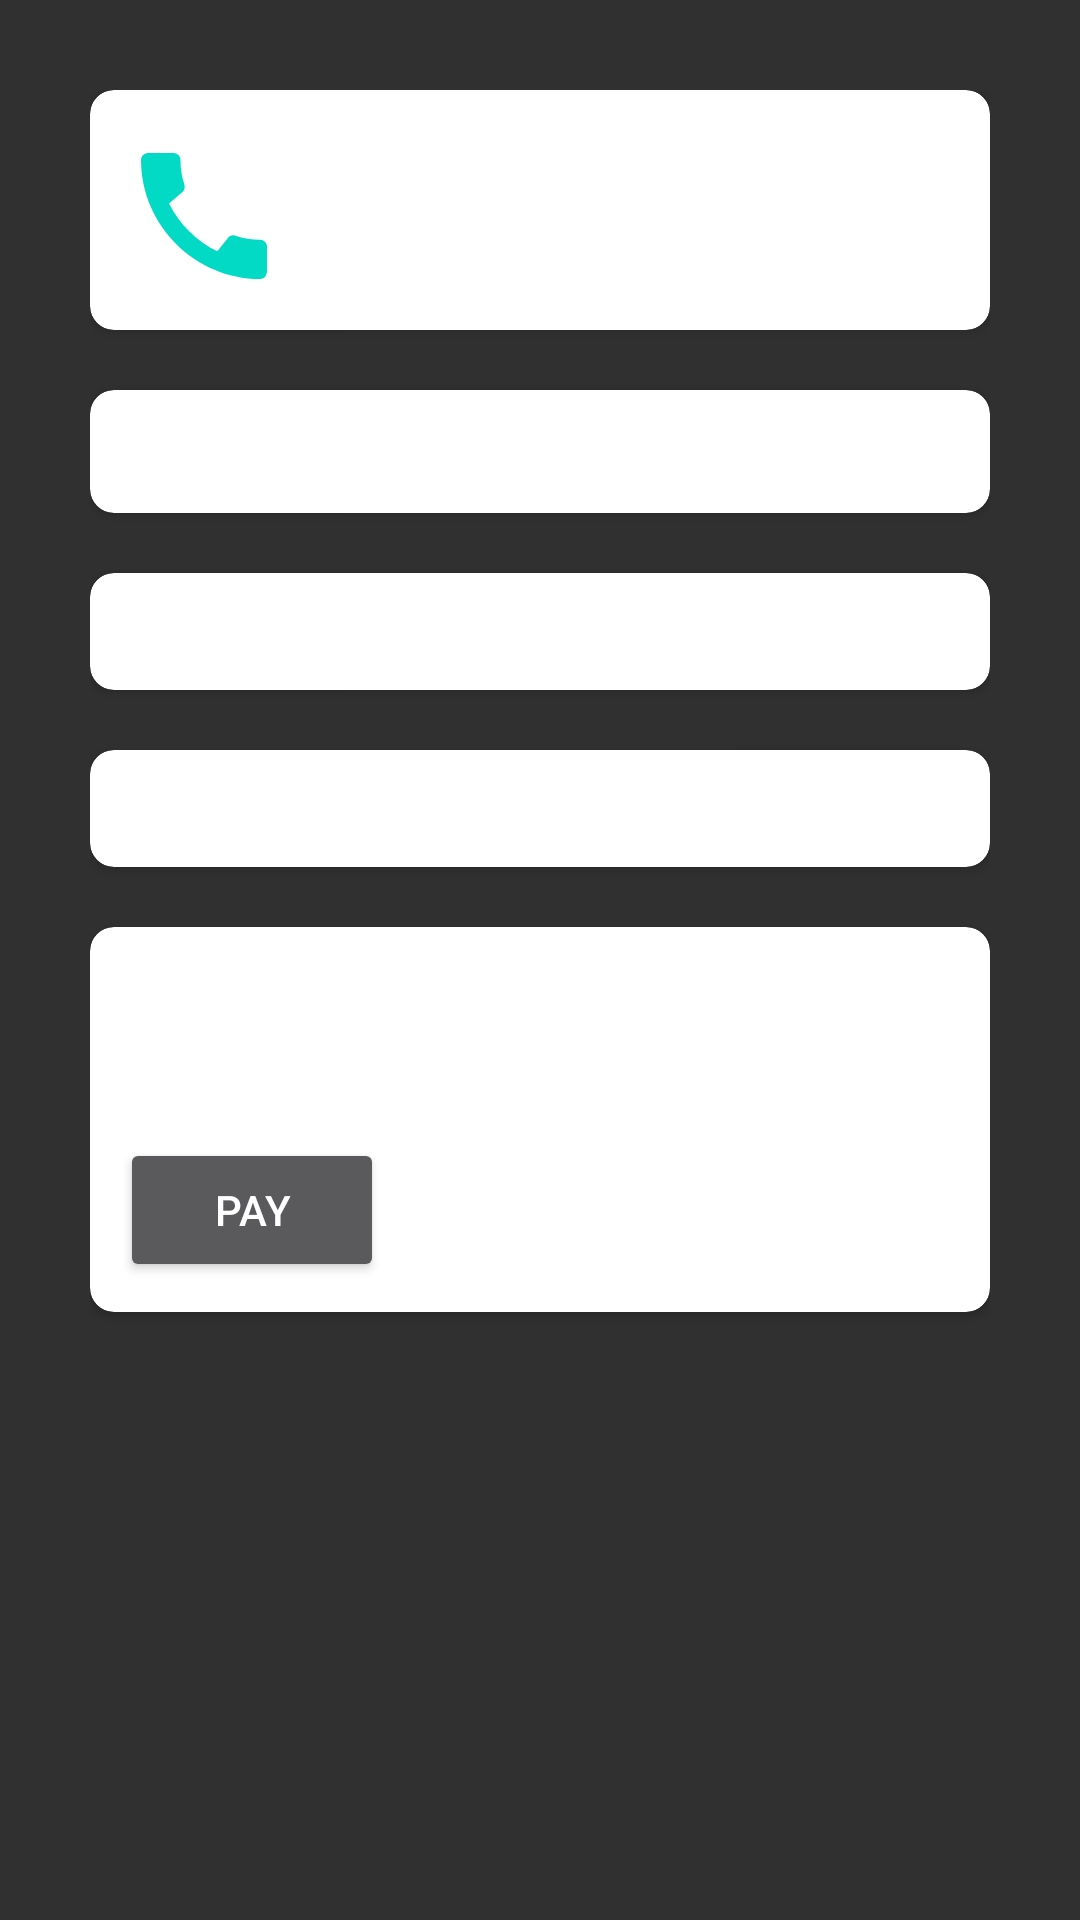

Locate icon controls on the screen. Image size 1080px×1920px, boxes as (x1, y1, x2, y2).
call: (141, 153, 267, 279)
